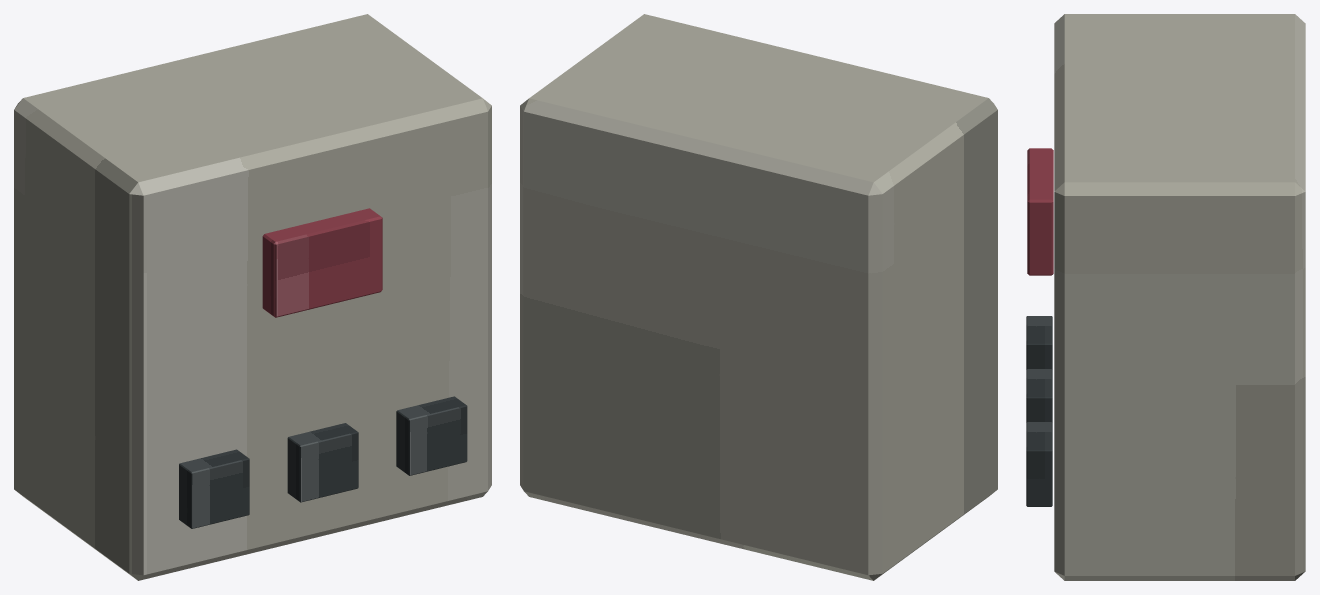
File: public_hand_dryer.glb
3 renders of one model, left to right at view 1: azimuth 30°, elevation 25°; view 2: azimuth 150°, elevation 25°; view 3: azimuth 270°, elevation 25°, orthographic.
Visible parts, largest first — view 1: HandDryerBody, DryerSensor, DryerVent_2, DryerVent_1, DryerVent_0; view 2: HandDryerBody; view 3: HandDryerBody, DryerSensor, DryerVent_2, DryerVent_0, DryerVent_1.
Boxes of the visible parts, left/top/right/bottom form: HandDryerBody: left=14, top=14, right=491, bottom=580; DryerSensor: left=262, top=208, right=382, bottom=317; DryerVent_2: left=396, top=396, right=467, bottom=475; DryerVent_1: left=287, top=423, right=358, bottom=502; DryerVent_0: left=179, top=449, right=249, bottom=528; HandDryerBody: left=520, top=14, right=997, bottom=580; HandDryerBody: left=1054, top=14, right=1305, bottom=580; DryerSensor: left=1027, top=148, right=1053, bottom=275; DryerVent_2: left=1026, top=422, right=1052, bottom=506; DryerVent_0: left=1026, top=316, right=1052, bottom=369; DryerVent_1: left=1026, top=369, right=1052, bottom=422.
Size of the model in its own units: 0.4 by 0.42 by 0.2665.
1 material, 1 textured.
